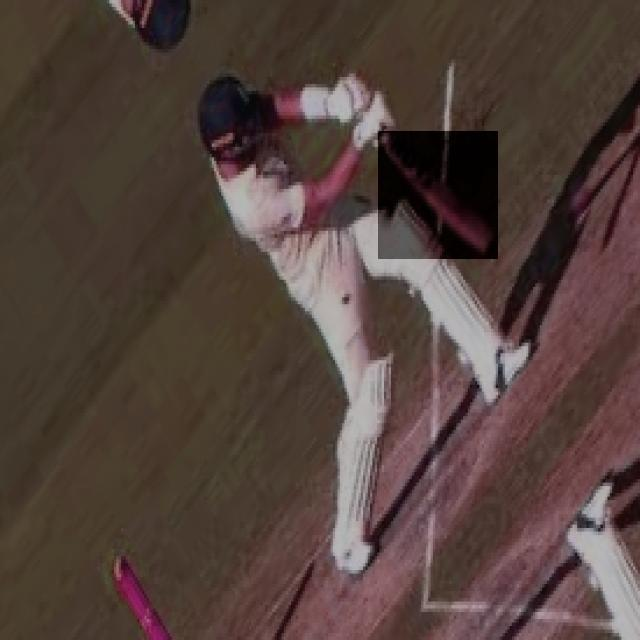bat: (377, 133, 499, 257)
